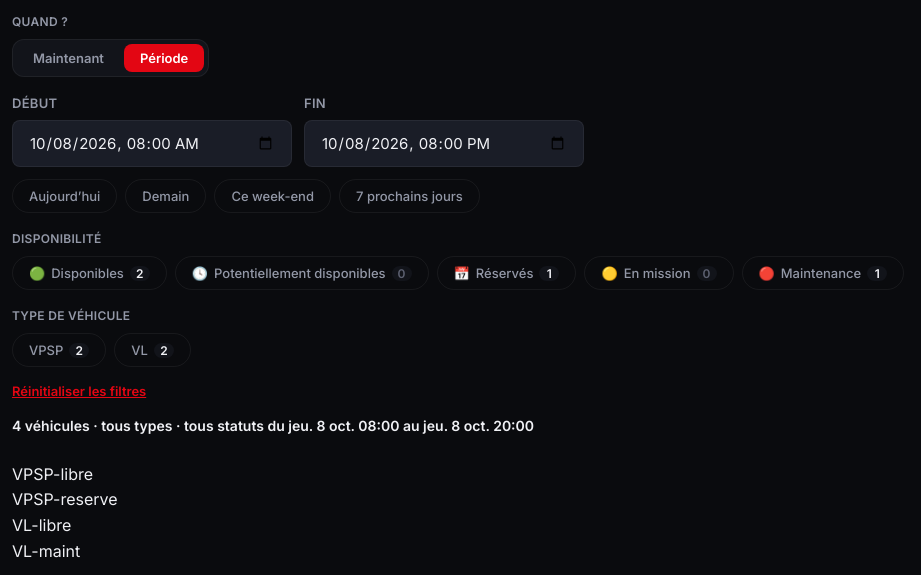
DtFilterPanel › début placé après la fin : la fin est décalée en conservant la durée
Replace the text in the field labelled "Début" with "2026-10-09T09:00" at (152, 144), box [12,120,292,167]
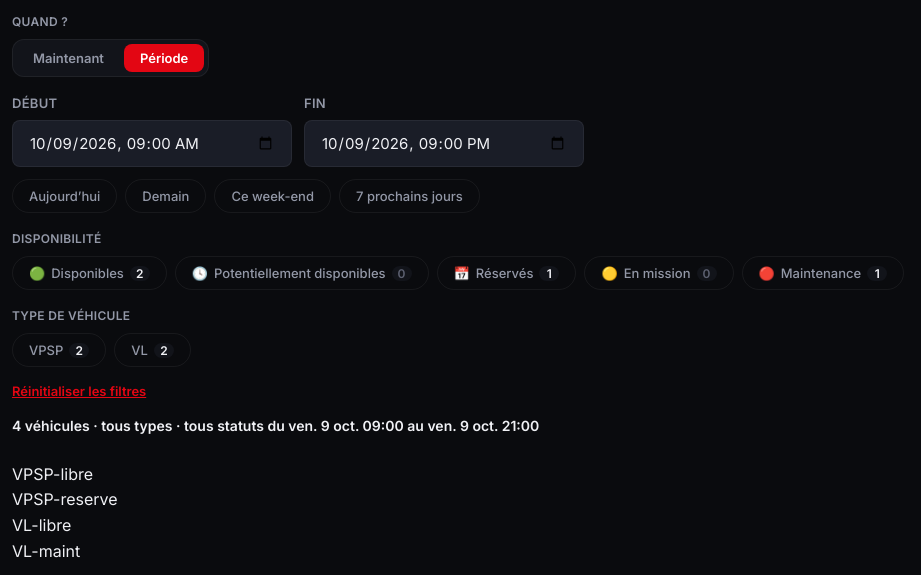
Expected: the field labelled "Fin" holds "2026-10-09T21:00", [304,120,584,167]
